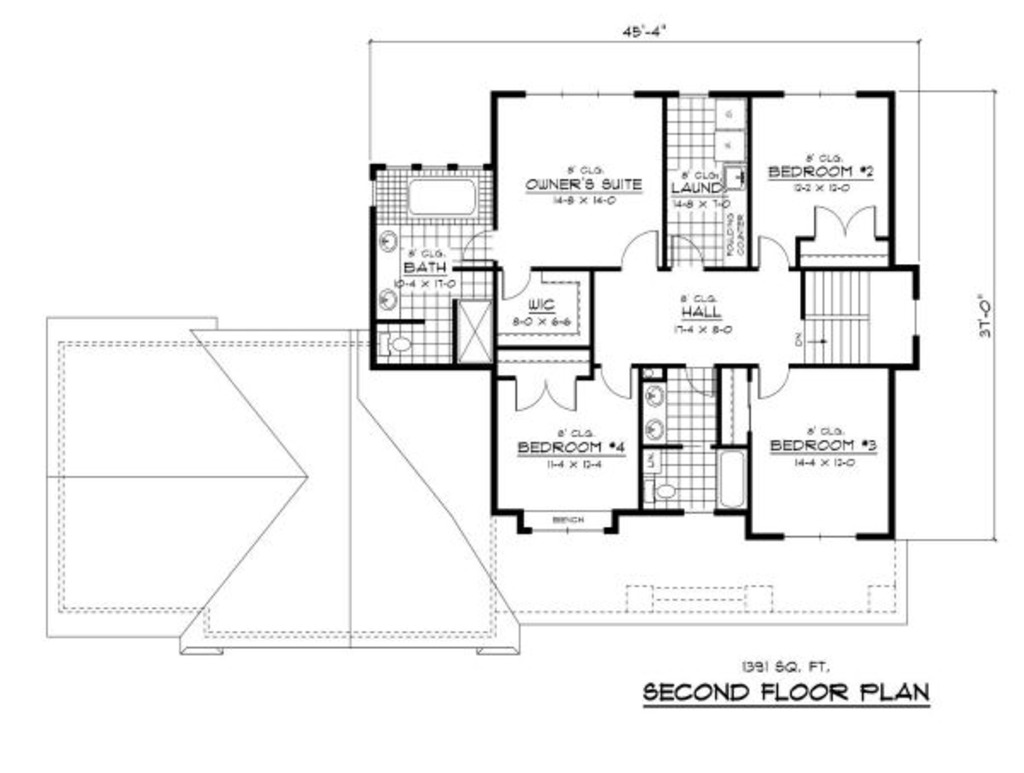door: (807, 198, 878, 242), (510, 375, 583, 417), (616, 231, 661, 273), (748, 234, 790, 274), (597, 363, 637, 404), (754, 361, 795, 399), (498, 267, 533, 302)
large_sink: (371, 328, 417, 365), (640, 477, 677, 508)
small_sink: (375, 221, 401, 321), (639, 378, 669, 445)
stairs: (794, 267, 892, 364)
tub: (398, 177, 480, 225), (716, 445, 750, 508)
windows: (521, 86, 643, 100), (527, 520, 608, 538), (773, 527, 858, 542), (778, 87, 859, 102)
